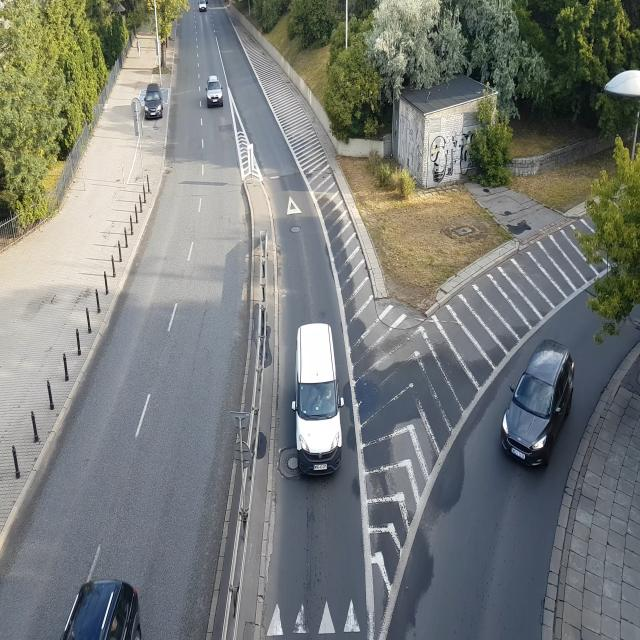car: (502, 339, 578, 468), (292, 314, 348, 487), (58, 582, 143, 640), (143, 88, 165, 120), (205, 76, 223, 108), (199, 3, 207, 13)
